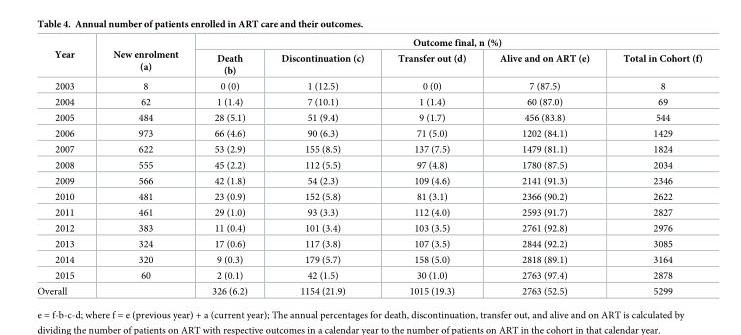table: (36, 37, 701, 296)
table column: (482, 37, 605, 296), (263, 37, 380, 296), (380, 37, 482, 296), (93, 37, 194, 296), (605, 37, 701, 296), (194, 37, 263, 296), (36, 37, 93, 296)
table column header: (36, 37, 701, 77)
table row: (36, 50, 701, 77), (36, 77, 701, 93), (36, 93, 701, 109), (36, 109, 701, 125), (36, 125, 701, 141), (36, 156, 701, 172), (36, 172, 701, 188), (36, 188, 701, 204), (36, 204, 701, 220), (36, 235, 701, 251), (36, 251, 701, 267), (36, 267, 701, 283), (36, 141, 701, 156), (36, 220, 701, 235), (36, 37, 701, 50), (36, 283, 701, 296)
table spanning cell: (194, 37, 701, 50), (93, 37, 194, 77), (36, 37, 93, 77)
